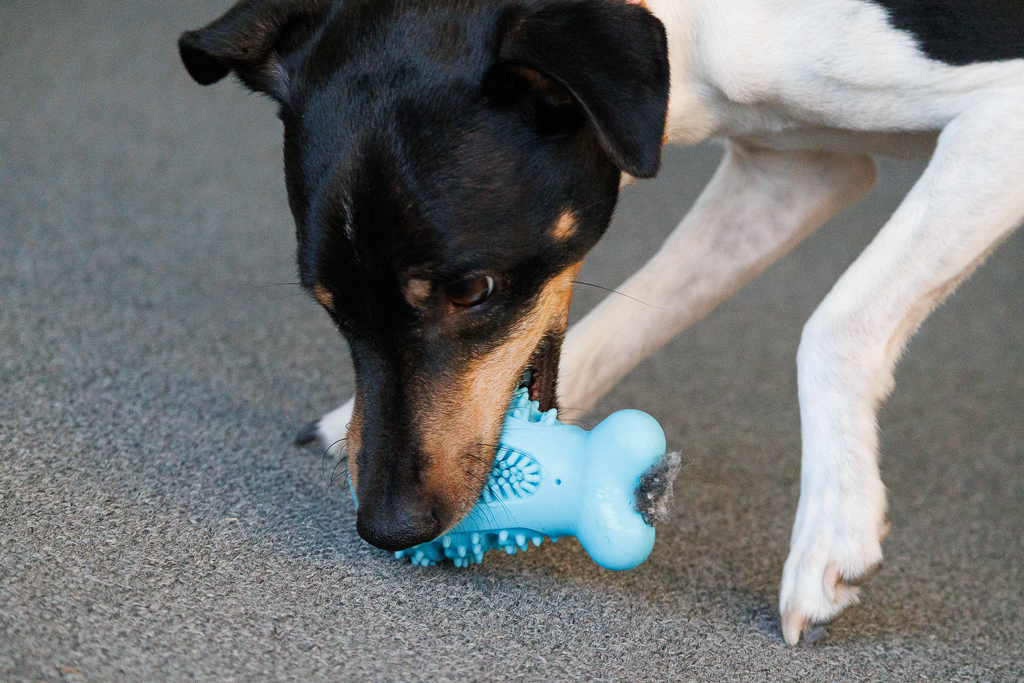Dog: (162, 0, 1024, 664)
